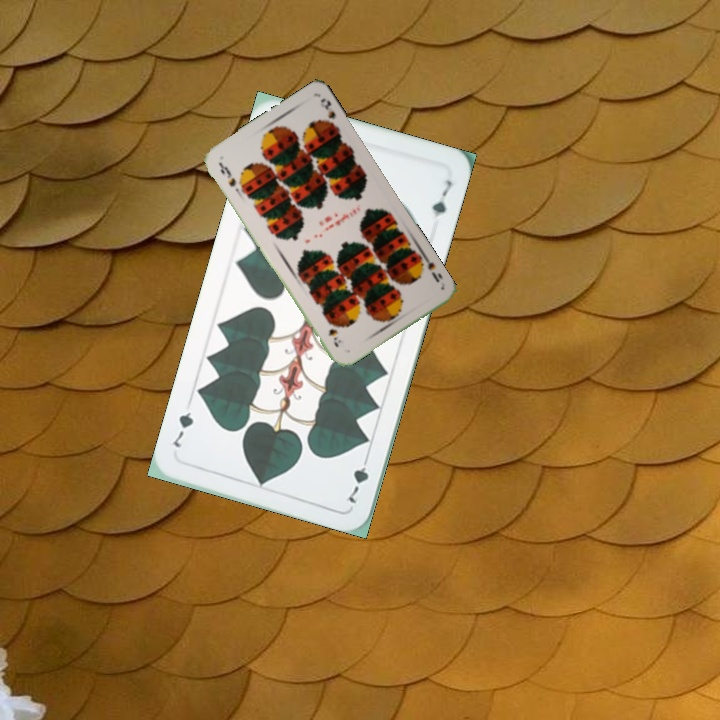G7: (341, 450, 372, 506)
S9: (414, 251, 445, 285), (215, 158, 239, 189)
